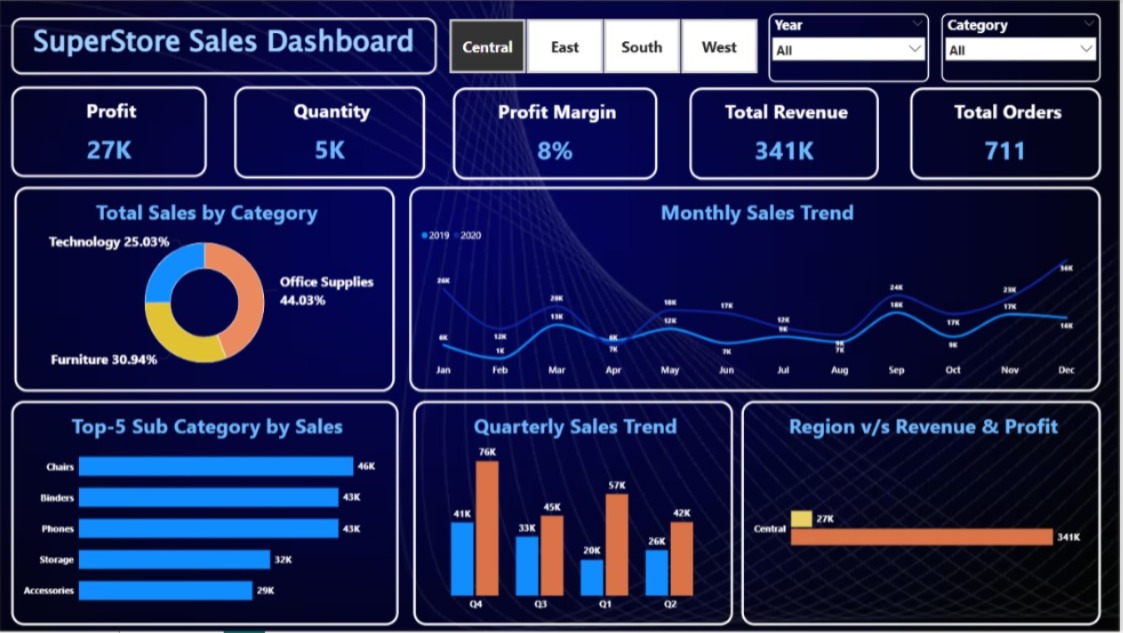

What the dashboard file says about the page in this screenshot:
{"tool":"powerbi","page":{"name":"Dashboard","canvas":[1920,1080],"ordinal":0},"visuals":[{"type":"slicer","fields":{"Values":["SuperStore_Sales_Dataset.Region"]},"box":[750,30,567.5,97.5],"z":0},{"type":"textbox","box":[19.9,30.8,729.3,97.7],"z":1000},{"type":"cardVisual","title":"Profit","fields":{"Data":["DateTable.Total Profit"]},"box":[20,147.5,335,155],"z":2000},{"type":"cardVisual","title":"Quantity","fields":{"Data":["Sum(SuperStore_Sales_Dataset.Quantity)"]},"box":[402.5,147.5,327.5,157.5],"z":3000},{"type":"cardVisual","title":"Profit Margin","fields":{"Data":["DateTable.Profit Margin %"]},"box":[777.5,150,350,157.5],"z":4000},{"type":"cardVisual","title":"Total Revenue","fields":{"Data":["DateTable.Total Revenue"]},"box":[1182.5,150,325,157.5],"z":5000},{"type":"cardVisual","title":"Total Orders","fields":{"Data":["DateTable.Total Orders"]},"box":[1560,150,327.5,157.5],"z":6000},{"type":"lineChart","title":"Monthly Sales Trend","fields":{"Category":["DateTable.Month Name"],"Series":["DateTable.Year"],"Y":["DateTable.Total Revenue"]},"box":[701.8,319.6,1185.7,350],"z":7000},{"type":"donutChart","title":"Total Sales by Category","fields":{"Category":["SuperStore_Sales_Dataset.Category"],"Y":["Sum(SuperStore_Sales_Dataset.Sales)"]},"box":[25,319.6,651.8,350],"z":8000},{"type":"barChart","title":"Top-5 Sub Category by Sales","fields":{"Category":["SuperStore_Sales_Dataset.Sub-Category"],"Y":["Sum(SuperStore_Sales_Dataset.Sales)"]},"box":[19.6,685.7,664.3,383.9],"z":9000},{"type":"clusteredBarChart","title":"Region v/s Revenue & Profit","fields":{"Category":["SuperStore_Sales_Dataset.Region"],"Y":["Sum(SuperStore_Sales_Dataset.Profit)","Sum(SuperStore_Sales_Dataset.Sales)"]},"box":[1271.4,685.7,616.1,383.9],"z":10000},{"type":"slicer","fields":{"Values":["DateTable.Year"]},"box":[1317.5,22.5,275,117.5],"z":11000},{"type":"slicer","fields":{"Values":["SuperStore_Sales_Dataset.Category"]},"box":[1615,22.5,272.5,117.5],"z":12000},{"type":"clusteredColumnChart","title":"Quarterly Sales Trend","fields":{"Category":["DateTable.Quarter"],"Series":["DateTable.Year"],"Y":["Sum(SuperStore_Sales_Dataset.Sales)"]},"box":[708.9,685.7,548.2,383.9],"z":13000}]}

Visuals, with their boxes in screenshot pixels (x1, y1, x2, y2), scaled from the page's 1920x1080 canvas onto the 1123x633 screenshot:
slicer - SuperStore_Sales_Dataset.Region: 439/18/771/75
textbox: 12/18/438/75
"Profit" cardVisual: 12/86/208/177
"Quantity" cardVisual: 235/86/427/179
"Profit Margin" cardVisual: 455/88/659/180
"Total Revenue" cardVisual: 692/88/882/180
"Total Orders" cardVisual: 912/88/1104/180
"Monthly Sales Trend" lineChart: 410/187/1104/392
"Total Sales by Category" donutChart: 15/187/396/392
"Top-5 Sub Category by Sales" barChart: 11/402/400/627
"Region v/s Revenue & Profit" clusteredBarChart: 744/402/1104/627
slicer - DateTable.Year: 771/13/931/82
slicer - SuperStore_Sales_Dataset.Category: 945/13/1104/82
"Quarterly Sales Trend" clusteredColumnChart: 415/402/735/627
